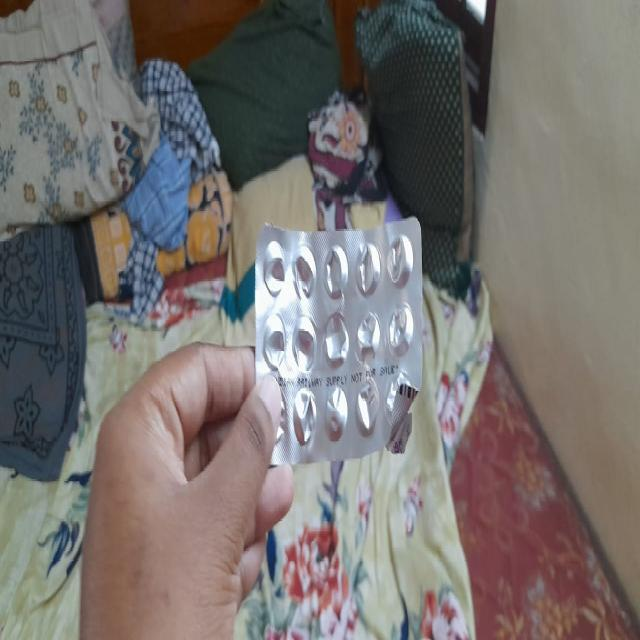Blister_Packs - Non Recyclable: (252, 213, 424, 469)
